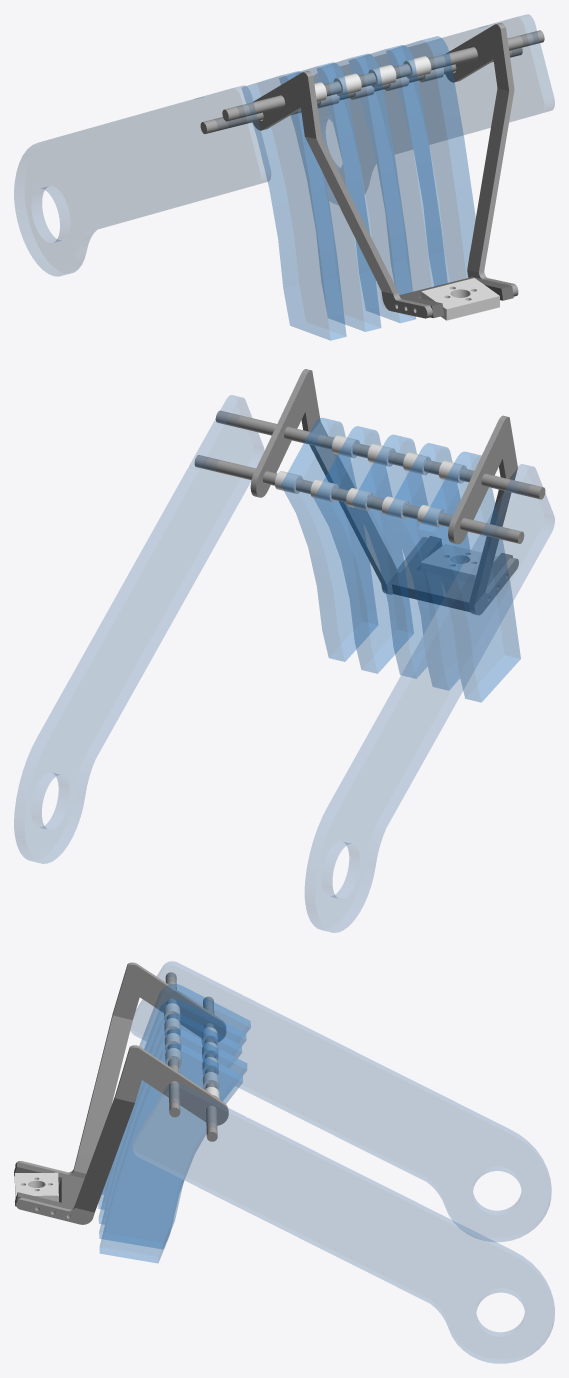
The picture shows the model from 3 angles, top to bottom: view 1: azimuth 30°, elevation 25°; view 2: azimuth 150°, elevation 25°; view 3: azimuth 270°, elevation 25°; orthographic projection. The views are drawn at different scales.
Visible parts, largest first — view 1: Internal hood arm (×2), top finger # 3, top finger # 6, top finger # 2, top finger # 4, top finger # 5, right link connector, left link connector, upper finger mounting rod (×2), nut block, Interfinger spacer (×3), lead screw nut block pivot yoke; view 2: Internal hood arm (×2), top finger # 6, top finger # 3, top finger # 2, top finger # 4, top finger # 5, right link connector, upper finger mounting rod (×2), left link connector, lead screw nut block pivot yoke, nut block; view 3: Internal hood arm (×2), top finger # 2, top finger # 3, right link connector, left link connector, top finger # 4, top finger # 5, top finger # 6, upper finger mounting rod (×2), lead screw nut block pivot yoke, nut block.
Boxes of the visible parts, x1=… form: Internal hood arm (×2): x1=14, y1=14, x2=554, y2=276; top finger # 3: x1=349, y1=45, x2=447, y2=294; top finger # 6: x1=242, y1=71, x2=346, y2=340; top finger # 2: x1=386, y1=36, x2=475, y2=285; top finger # 4: x1=317, y1=54, x2=415, y2=322; top finger # 5: x1=279, y1=62, x2=380, y2=331; right link connector: x1=445, y1=23, x2=518, y2=296; left link connector: x1=252, y1=71, x2=432, y2=318; upper finger mounting rod (×2): x1=200, y1=30, x2=544, y2=133; nut block: x1=421, y1=278, x2=499, y2=320; Interfinger spacer (×3): x1=333, y1=56, x2=431, y2=96; lead screw nut block pivot yoke: x1=399, y1=277, x2=513, y2=318; Internal hood arm (×2): x1=14, y1=395, x2=554, y2=932; top finger # 6: x1=418, y1=452, x2=520, y2=702; top finger # 3: x1=314, y1=426, x2=413, y2=673; top finger # 2: x1=281, y1=418, x2=377, y2=661; top finger # 4: x1=352, y1=435, x2=443, y2=678; top finger # 5: x1=385, y1=443, x2=469, y2=690; right link connector: x1=250, y1=369, x2=427, y2=594; upper finger mounting rod (×2): x1=194, y1=410, x2=545, y2=543; left link connector: x1=448, y1=415, x2=518, y2=614; lead screw nut block pivot yoke: x1=392, y1=536, x2=512, y2=611; nut block: x1=421, y1=544, x2=497, y2=583; Internal hood arm (×2): x1=130, y1=961, x2=554, y2=1363; top finger # 2: x1=100, y1=1044, x2=242, y2=1263; top finger # 3: x1=99, y1=1029, x2=246, y2=1248; right link connector: x1=16, y1=1045, x2=228, y2=1224; left link connector: x1=15, y1=962, x2=226, y2=1178; top finger # 4: x1=99, y1=1014, x2=241, y2=1224; top finger # 5: x1=98, y1=999, x2=246, y2=1209; top finger # 6: x1=102, y1=984, x2=250, y2=1194; upper finger mounting rod (×2): x1=165, y1=972, x2=217, y2=1141; lead screw nut block pivot yoke: x1=14, y1=1162, x2=84, y2=1216; nut block: x1=14, y1=1172, x2=58, y2=1201.
Bounding box in the file's own units: 0.1876 × 0.1914 × 0.3164.
